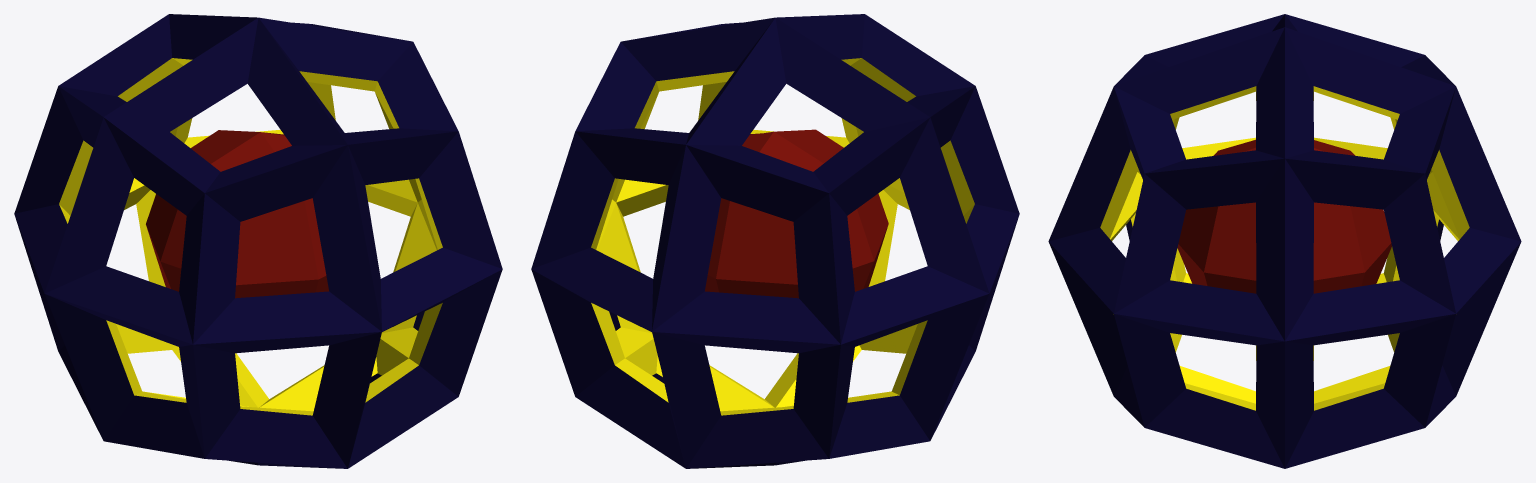
File: shrapnelbomb_empty.fbx
3 renders of one model, left to right at view 1: azimuth 30°, elevation 25°; view 2: azimuth 150°, elevation 25°; view 3: azimuth 270°, elevation 25°, orthographic. The views are drawn at different scales.
Visible parts, largest first — view 1: bomb, Cube.001; view 2: bomb, Cube.001; view 3: bomb, Cube.001.
Part boxes in pixels (left/top/right/bottom): bomb: left=14, top=14, right=502, bottom=468; Cube.001: left=146, top=130, right=328, bottom=298; bomb: left=531, top=14, right=1019, bottom=468; Cube.001: left=705, top=129, right=888, bottom=298; bomb: left=1048, top=14, right=1521, bottom=468; Cube.001: left=1177, top=139, right=1391, bottom=293.
Bounding box in the file's own units: 278 × 278 × 278.
